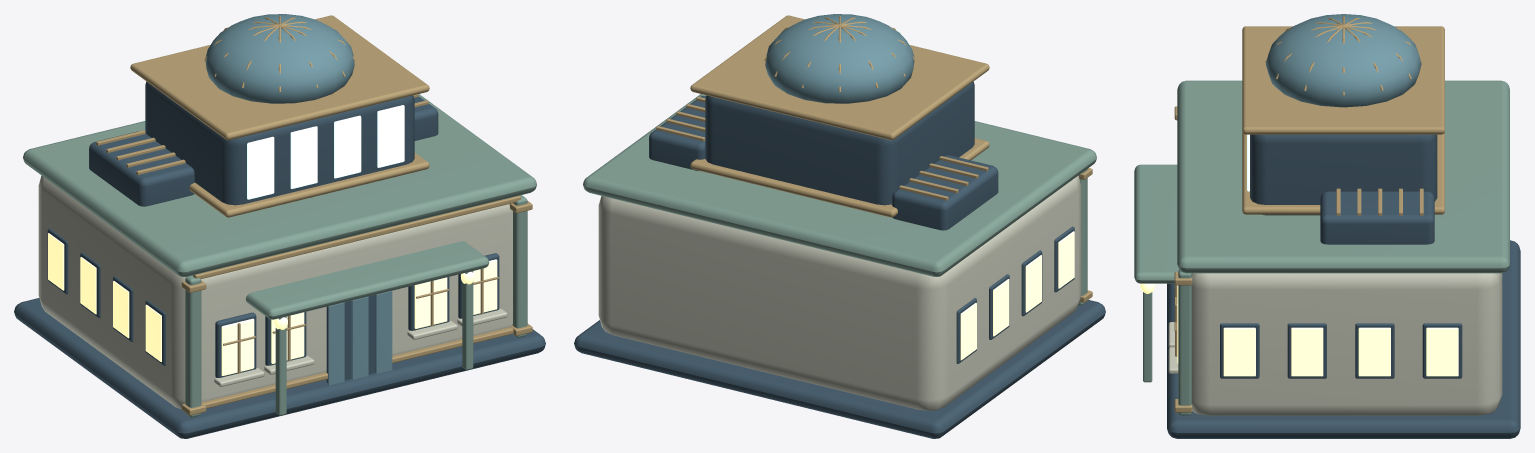
Rendered from data-center.glb.
The picture shows the model from 3 angles, left to right: view 1: azimuth 30°, elevation 25°; view 2: azimuth 150°, elevation 25°; view 3: azimuth 270°, elevation 25°; orthographic projection. The views are drawn at different scales.
Visible parts, largest first — view 1: data-center · Sage ceramic, data-center · Warm porcelain, data-center · Midnight enamel, UpperWorks · Dull brass, New central floor, Learning dome, data-center · Window glow, data-center · Dull brass, UpperWorks · New window glow, data-center · Quiet blue glass; view 2: data-center · Warm porcelain, data-center · Sage ceramic, data-center · Midnight enamel, New central floor, UpperWorks · Dull brass, Learning dome, data-center · Window glow, data-center · Dull brass; view 3: data-center · Sage ceramic, data-center · Warm porcelain, data-center · Midnight enamel, UpperWorks · Dull brass, New central floor, Learning dome, data-center · Window glow, data-center · Dull brass.
Boxes of the visible parts, <box> form: data-center · Sage ceramic: <box>23,94,536,417</box>; data-center · Warm porcelain: <box>38,175,512,409</box>; data-center · Midnight enamel: <box>14,96,545,438</box>; UpperWorks · Dull brass: <box>130,15,429,217</box>; New central floor: <box>145,81,414,205</box>; Learning dome: <box>205,14,354,103</box>; data-center · Window glow: <box>48,233,497,375</box>; data-center · Dull brass: <box>96,94,532,415</box>; UpperWorks · New window glow: <box>247,105,404,199</box>; data-center · Quiet blue glass: <box>328,291,392,385</box>; data-center · Warm porcelain: <box>598,175,1081,410</box>; data-center · Sage ceramic: <box>583,94,1096,305</box>; data-center · Midnight enamel: <box>574,95,1105,438</box>; New central floor: <box>705,81,974,205</box>; UpperWorks · Dull brass: <box>690,15,989,217</box>; Learning dome: <box>765,14,914,103</box>; data-center · Window glow: <box>960,231,1074,360</box>; data-center · Dull brass: <box>656,96,1092,302</box>; data-center · Sage ceramic: <box>1134,80,1509,415</box>; data-center · Warm porcelain: <box>1168,273,1502,415</box>; data-center · Midnight enamel: <box>1167,191,1520,438</box>; UpperWorks · Dull brass: <box>1242,16,1444,214</box>; New central floor: <box>1250,134,1437,215</box>; Learning dome: <box>1266,14,1421,107</box>; data-center · Window glow: <box>1140,283,1458,376</box>; data-center · Dull brass: <box>1174,106,1423,412</box>.
Size of the model in its own units: 8.5 by 6.87 by 7.43.
